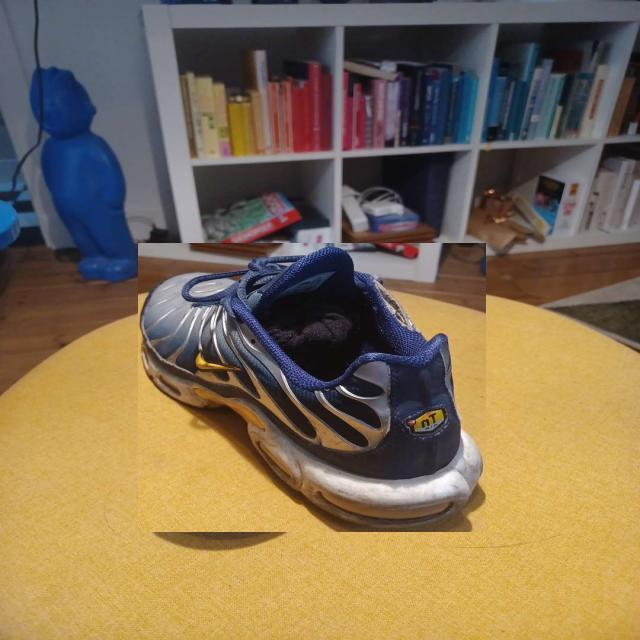shoes: (138, 243, 486, 532)
